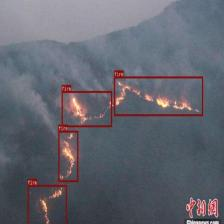fire: (114, 76, 202, 116), (61, 91, 112, 127), (28, 184, 66, 224), (58, 130, 78, 182)
